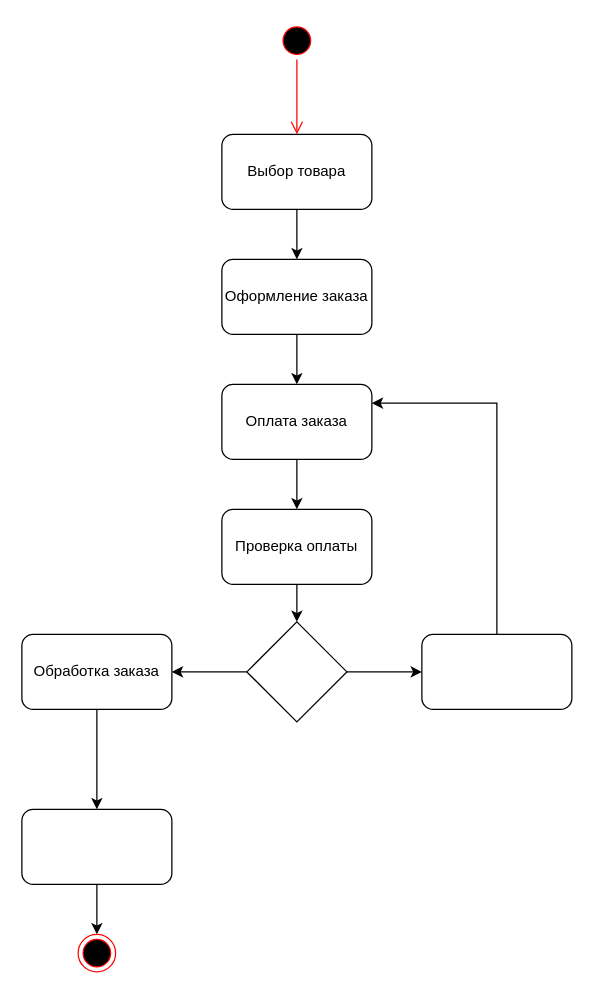
Image size: 594x994. Some labels were removed from this diagram. The centre of each missing label's shape, as x and y in pixels:
Отправка заказа: [96,846]
Повторить оплату: [496,671]
